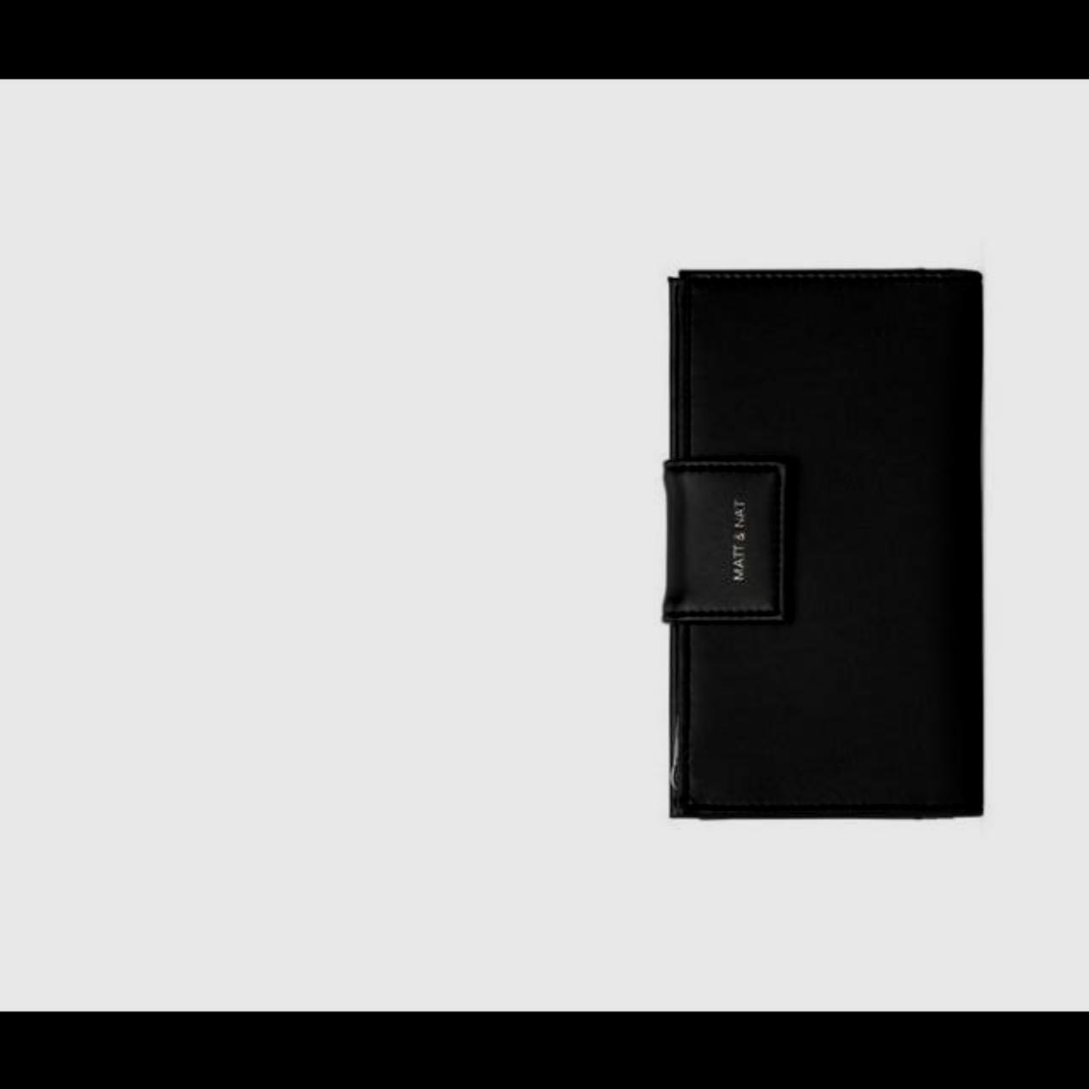wallet: (653, 238, 993, 851)
